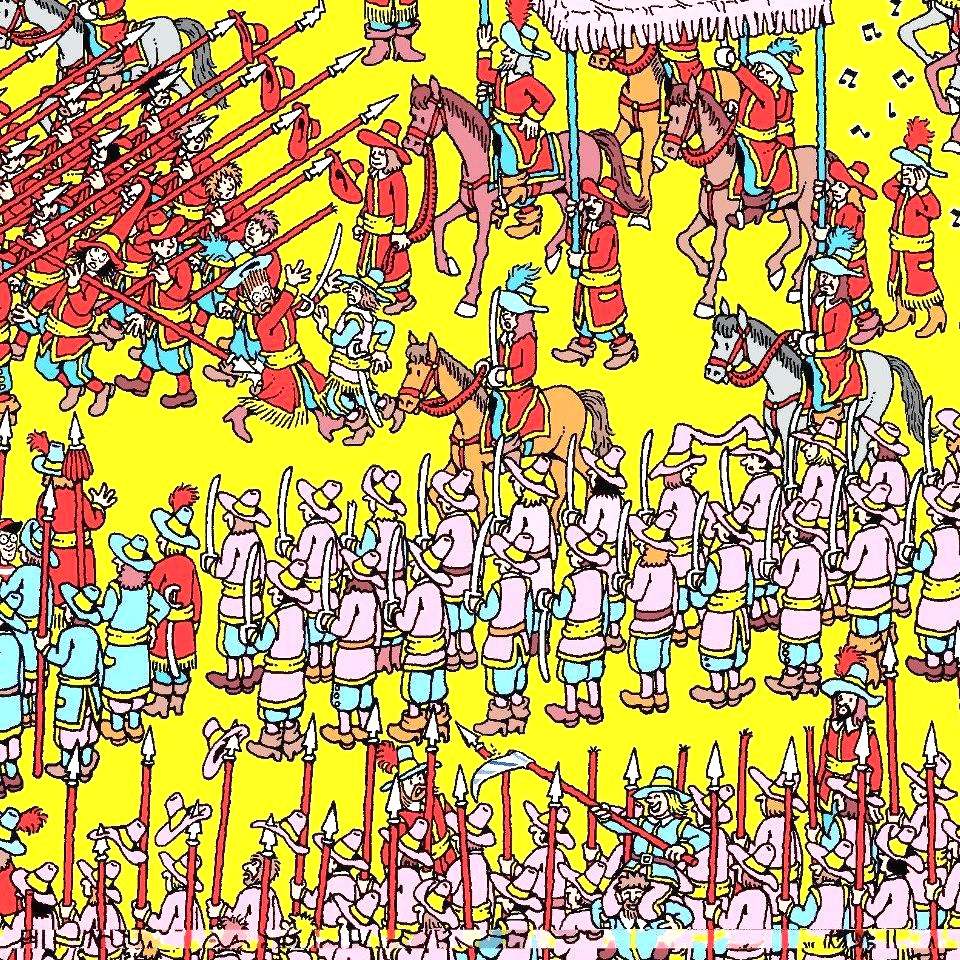waldo: (0, 515, 19, 577)
